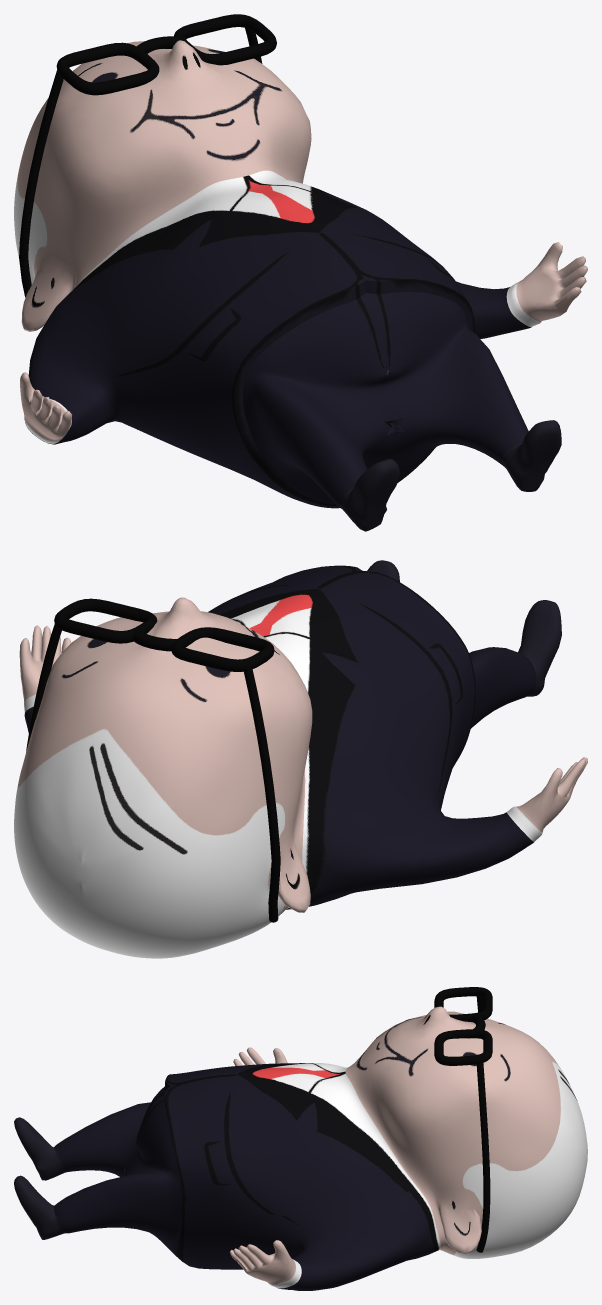
Rendered from charlieBalloon.glb.
The picture shows the model from 3 angles, top to bottom: view 1: azimuth 30°, elevation 25°; view 2: azimuth 150°, elevation 25°; view 3: azimuth 270°, elevation 25°; orthographic projection. The views are drawn at different scales.
Parts seen in each view (by area): view 1: Lathe, NurbsPath; view 2: Lathe, NurbsPath; view 3: Lathe, NurbsPath.
Part boxes in pixels (left/top/right/bottom): Lathe: left=14, top=40, right=587, bottom=531; NurbsPath: left=19, top=14, right=276, bottom=297; Lathe: left=14, top=560, right=587, bottom=958; NurbsPath: left=26, top=598, right=280, bottom=922; Lathe: left=14, top=1006, right=587, bottom=1290; NurbsPath: left=434, top=987, right=492, bottom=1252.
Size of the model in its own units: 10.87 by 6.52 by 13.3.
Materials: 2 (1 with a texture image).
